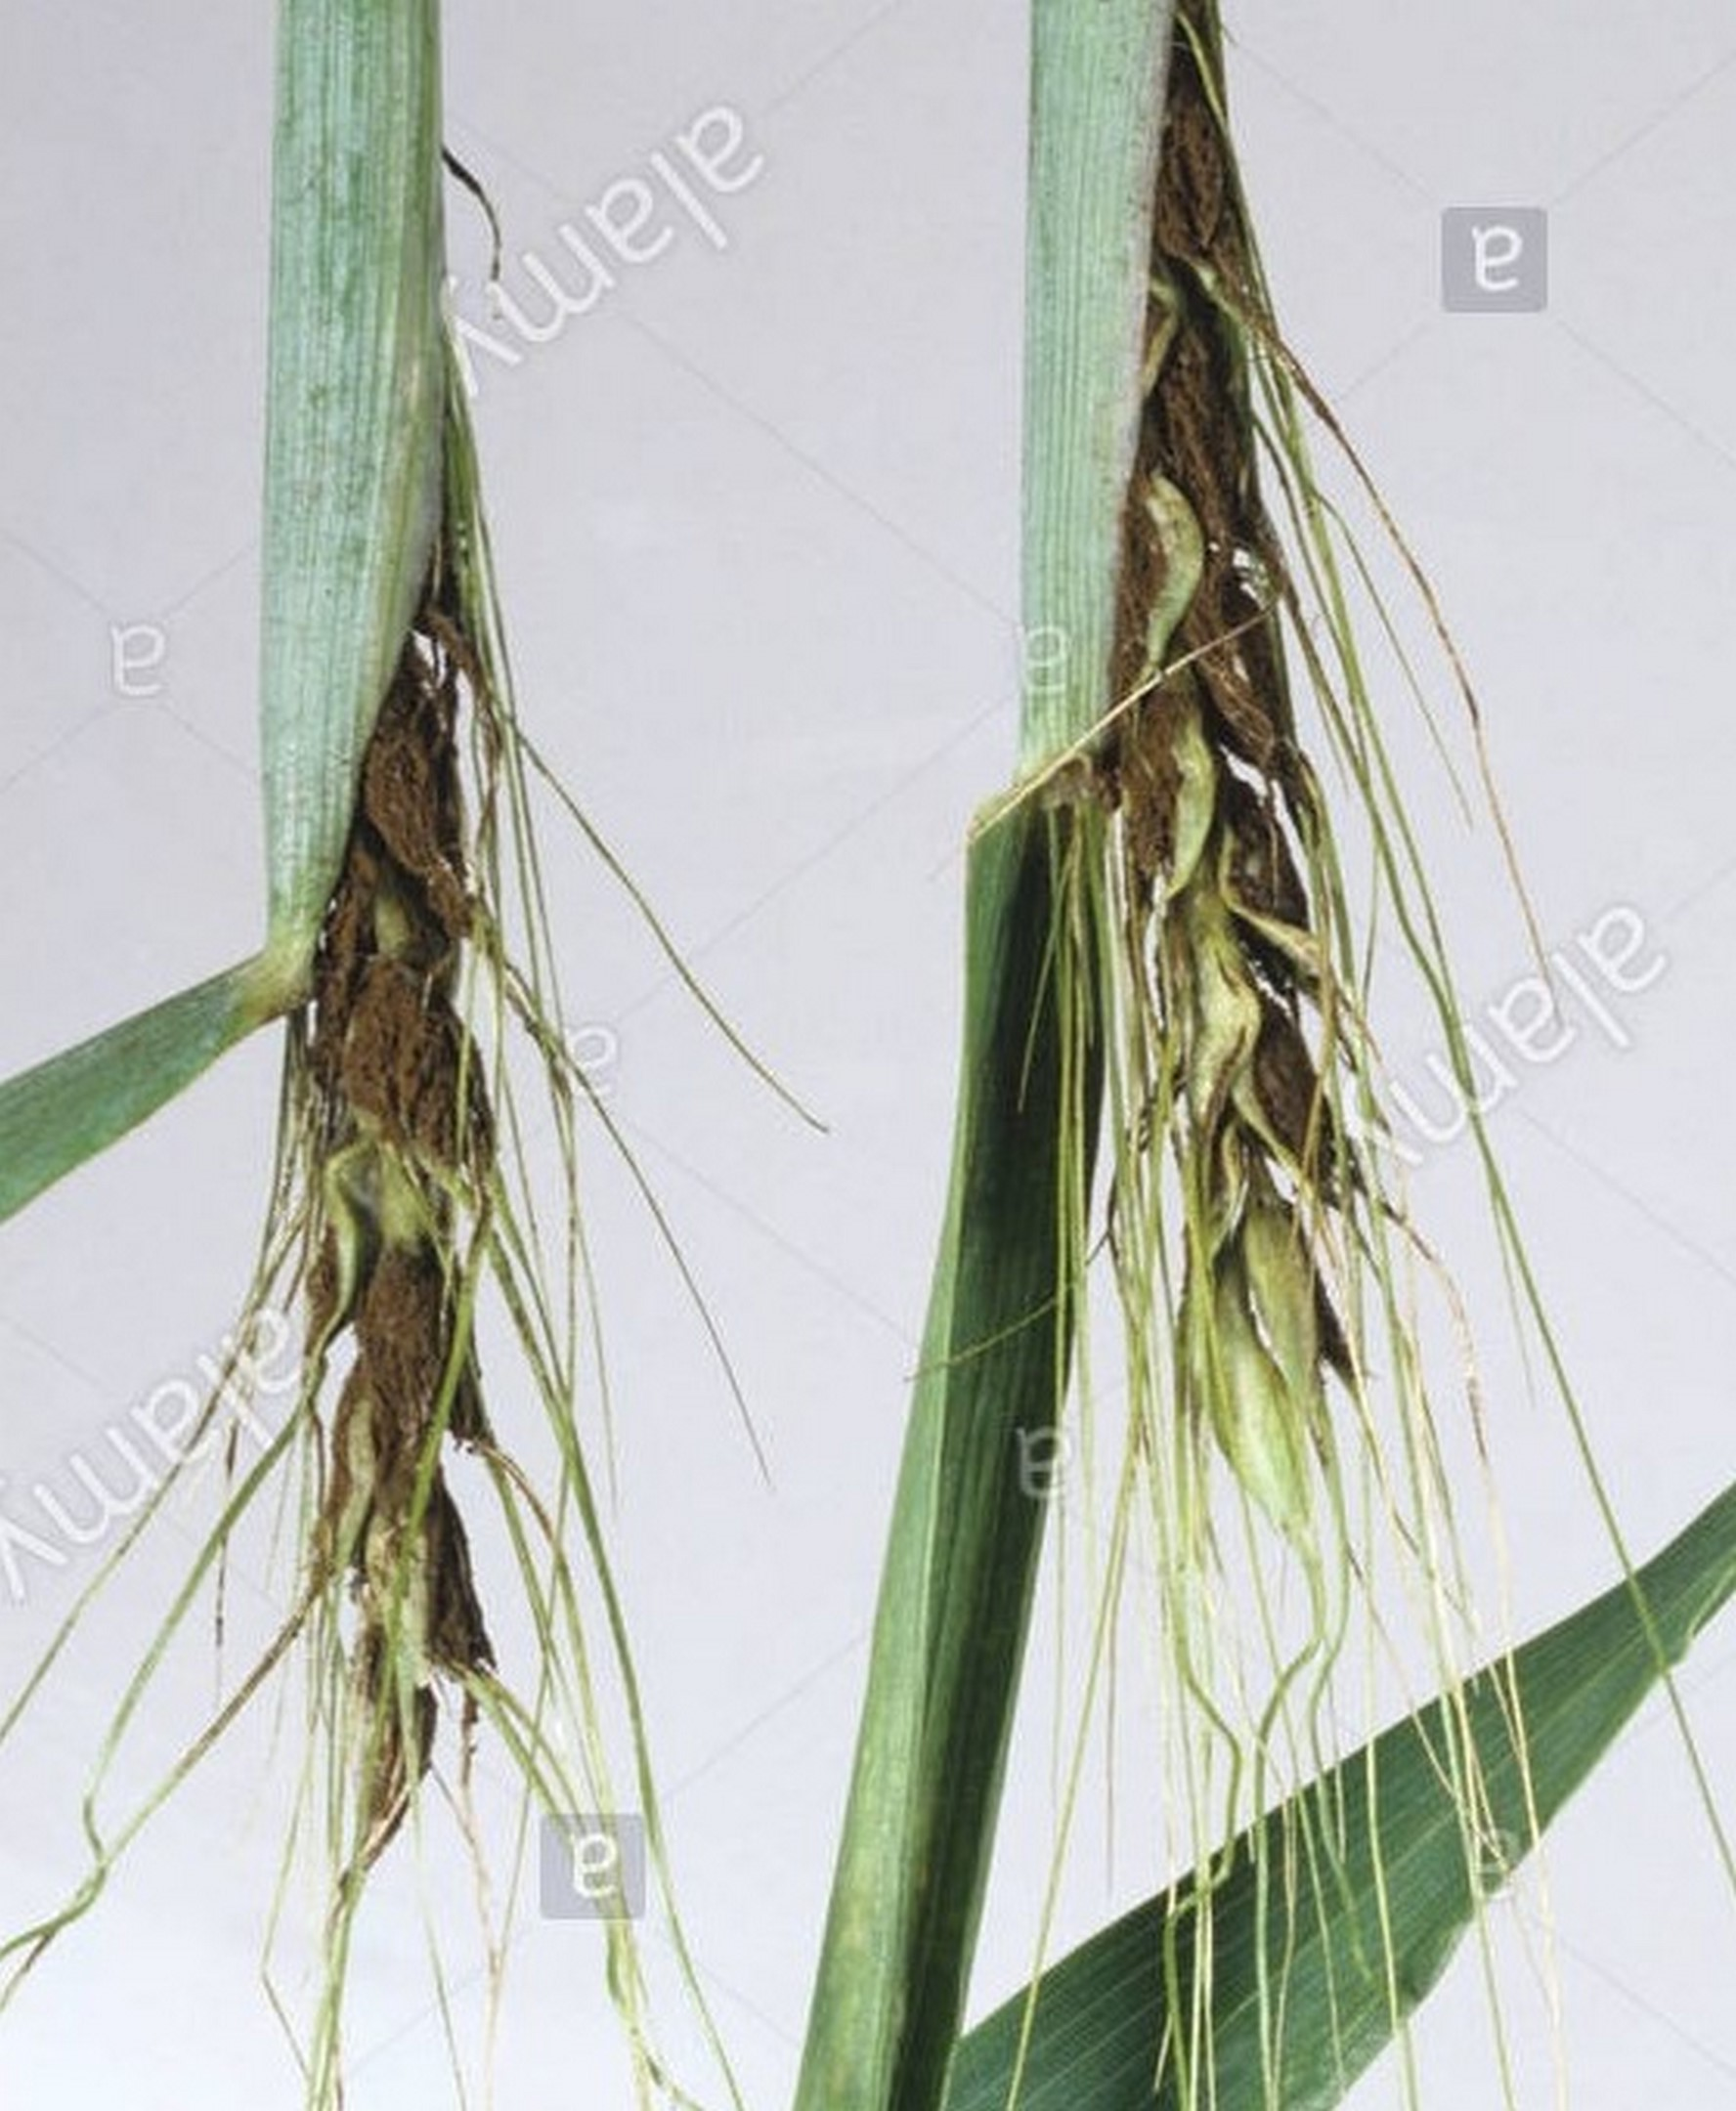Wheat Loose Smut: (235, 577, 633, 1853), (1031, 259, 1450, 1408)
